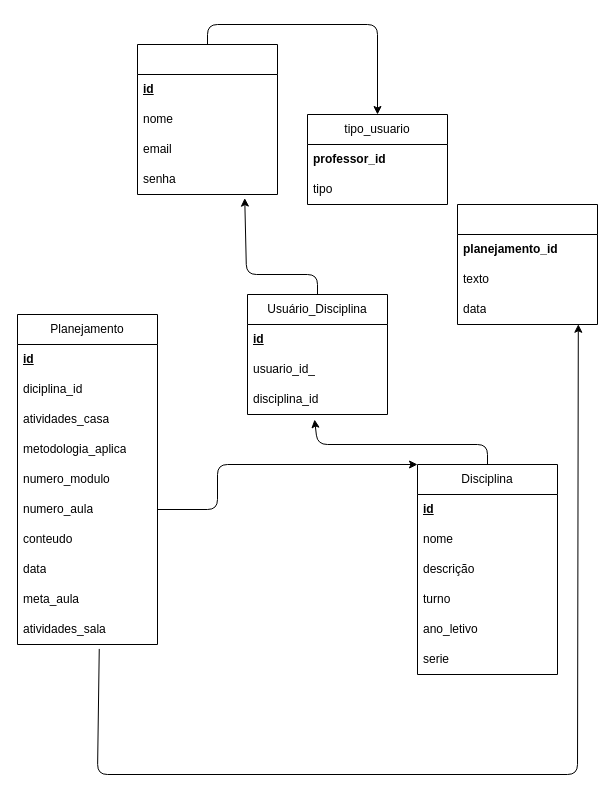
Image size: 615x800. Some labels were removed from this diagram. Here are the shapes that lost their labels. From the top down, the box of each, then its label:
(136, 44, 278, 194): Usuário
(456, 204, 598, 324): Cometario
